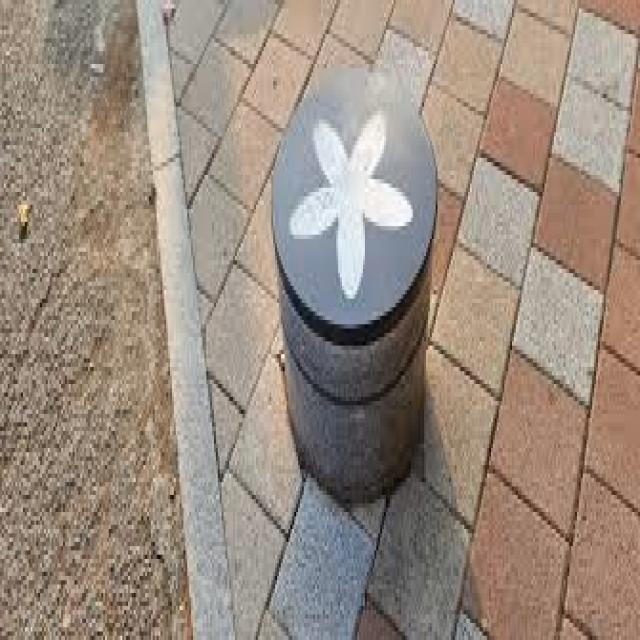bollard: (261, 49, 448, 509)
